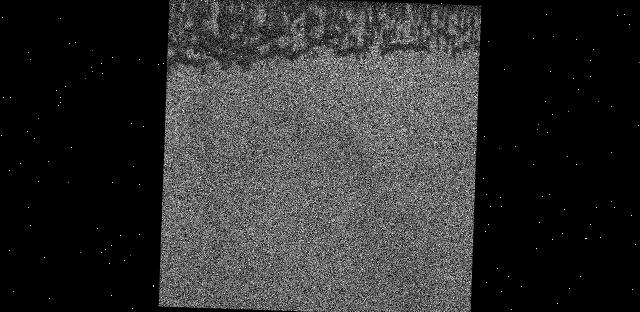oil_spot: (166, 0, 481, 84)
